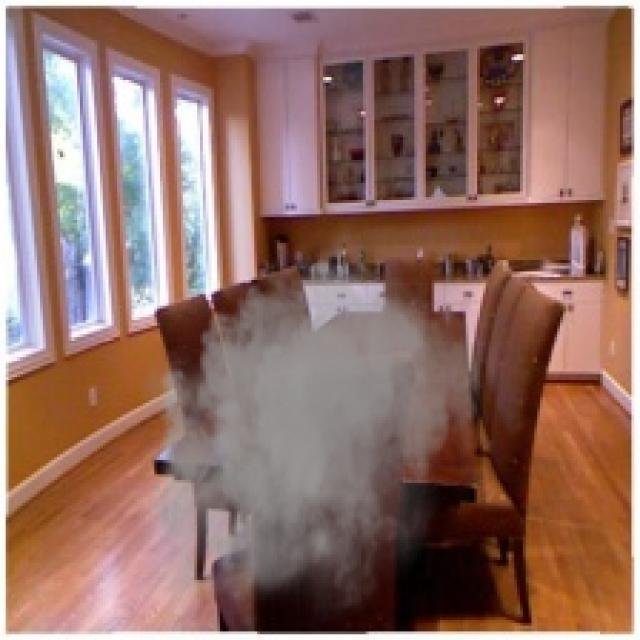Smoke: (134, 237, 494, 632)
